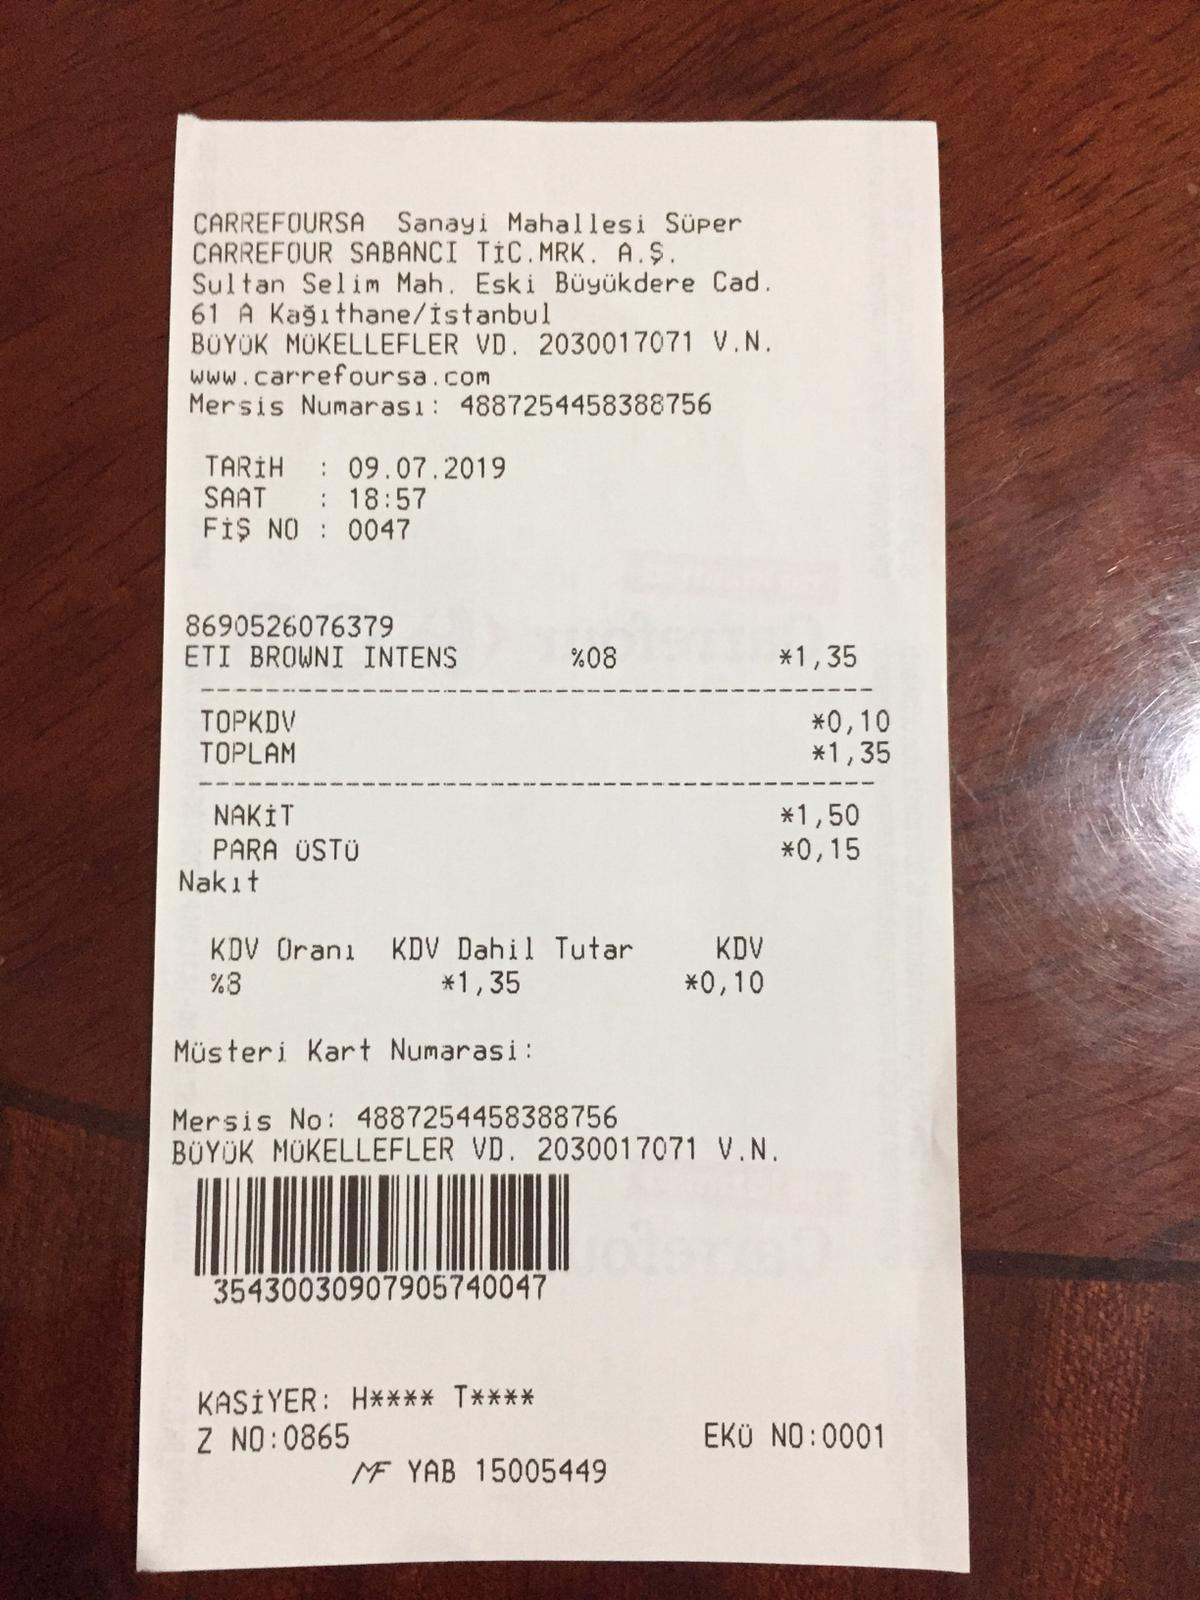total: (202, 735, 908, 779)
